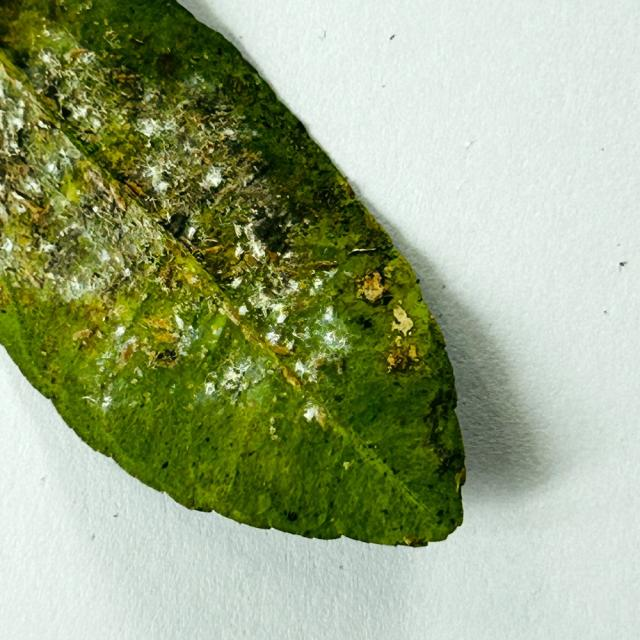Bacterial_Blight: (3, 155, 58, 226), (222, 233, 275, 283), (80, 166, 122, 215), (154, 255, 197, 297), (50, 224, 87, 266), (39, 322, 76, 362), (206, 173, 246, 209), (241, 324, 282, 357), (387, 337, 419, 372), (147, 343, 183, 372), (358, 272, 387, 302), (59, 170, 83, 202), (76, 324, 103, 352), (115, 73, 145, 98), (121, 177, 152, 201), (391, 305, 414, 337), (10, 183, 41, 205), (19, 196, 47, 220), (154, 52, 181, 76), (142, 314, 175, 333), (441, 451, 465, 477), (84, 304, 110, 327), (105, 185, 126, 212), (3, 66, 23, 93), (219, 304, 242, 327), (36, 92, 58, 116), (21, 267, 43, 290), (280, 366, 301, 390), (150, 329, 179, 345), (309, 405, 328, 429), (102, 29, 122, 49), (266, 342, 292, 356), (209, 314, 226, 335), (305, 260, 340, 270), (120, 342, 135, 364), (16, 229, 34, 247), (265, 248, 282, 266), (242, 251, 259, 268), (69, 48, 91, 61), (201, 244, 226, 255), (20, 289, 36, 306), (310, 356, 328, 371), (402, 535, 425, 546), (456, 466, 467, 486), (407, 343, 419, 361), (185, 273, 200, 286), (386, 353, 398, 369), (232, 222, 244, 238), (343, 183, 355, 198), (200, 237, 221, 245), (286, 510, 299, 522), (230, 390, 241, 403), (336, 361, 345, 376), (268, 424, 277, 439), (162, 211, 172, 224), (83, 1, 93, 11), (395, 335, 403, 347), (333, 394, 344, 402), (132, 37, 144, 44), (142, 391, 151, 400), (191, 54, 202, 61), (161, 461, 169, 469), (270, 433, 278, 441), (103, 18, 109, 26), (203, 53, 209, 60), (187, 383, 194, 389), (41, 350, 47, 356), (50, 377, 56, 383)
Lemon: (0, 0, 468, 550)
